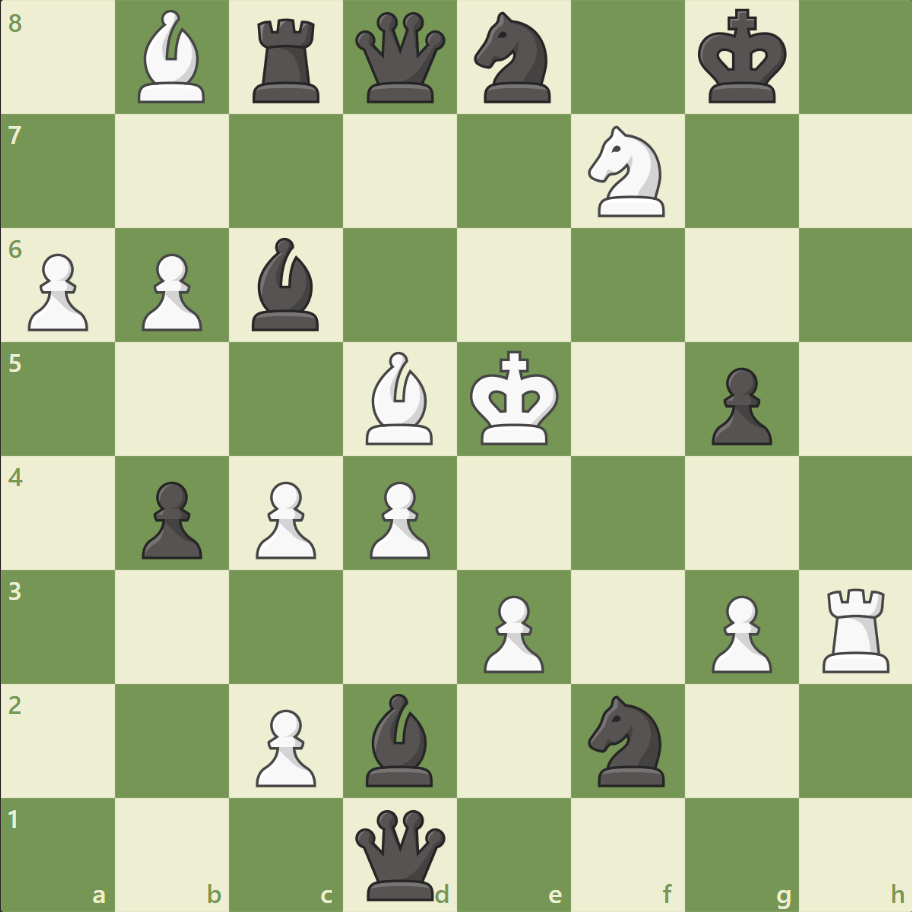B: (131, 6, 215, 109), (358, 347, 442, 449)
K: (465, 344, 565, 452)
N: (579, 121, 676, 223)
P: (20, 246, 95, 337), (133, 246, 208, 337), (247, 473, 322, 564), (474, 586, 549, 677), (701, 586, 776, 677), (247, 700, 322, 791), (361, 473, 435, 564)
R: (814, 579, 897, 676)
b: (244, 233, 328, 336), (358, 687, 442, 790)
k: (692, 4, 792, 112)
n: (465, 7, 562, 110), (579, 688, 676, 791)
p: (701, 359, 776, 450), (133, 473, 208, 564)
q: (351, 9, 450, 108), (351, 804, 450, 903)
r: (246, 12, 329, 109)
